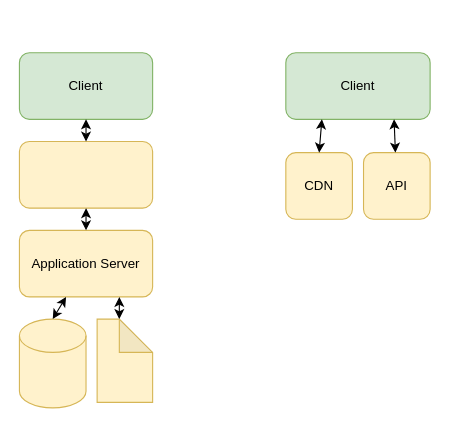
This 450x427 diagram has some shape labels left out. The centre of each missing label's shape, as x and y in pixels:
CMS: the point at 124,360
DB: the point at 52,363
Webserver: the point at 85,174
